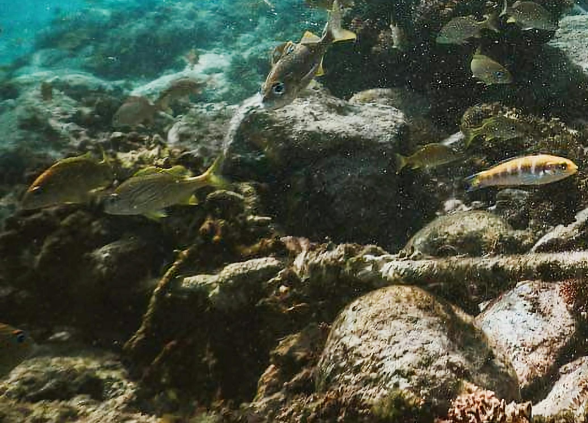fishSmall: (260, 0, 356, 112), (102, 156, 226, 223), (19, 150, 116, 211), (462, 153, 579, 194), (393, 142, 460, 176), (460, 114, 526, 147), (435, 12, 499, 46), (111, 93, 170, 129), (500, 1, 560, 33), (469, 46, 513, 89)
